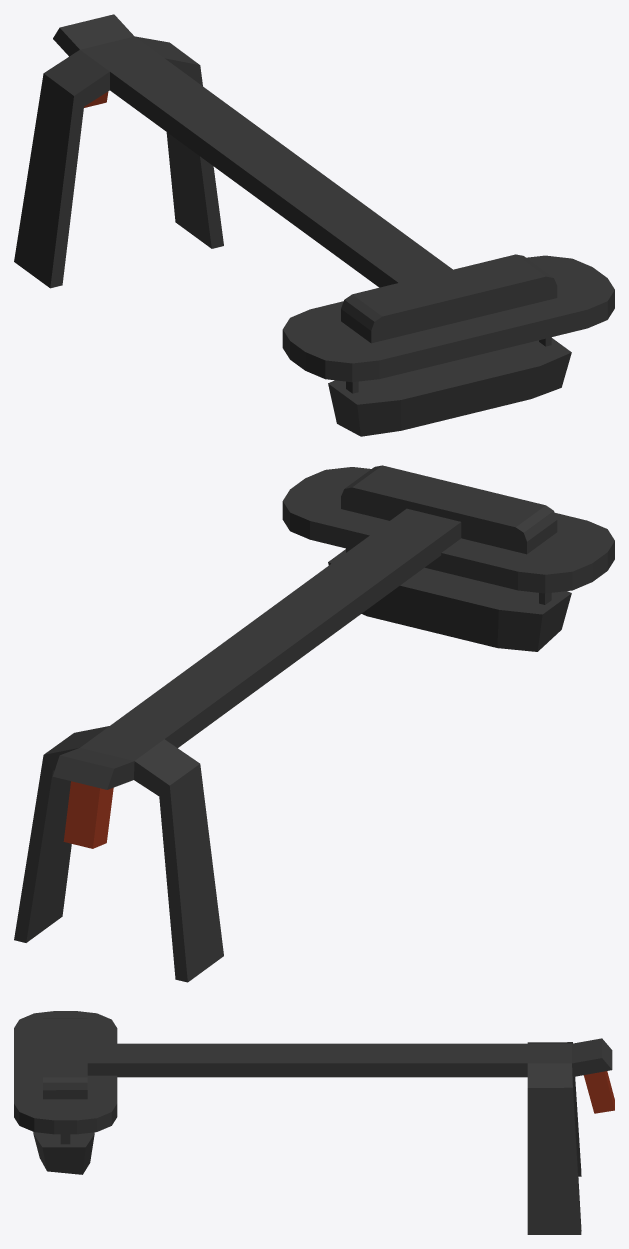
The model's file is pec-machine-ac-2.glb.
3 renders of one model, top to bottom at view 1: azimuth 30°, elevation 25°; view 2: azimuth 150°, elevation 25°; view 3: azimuth 270°, elevation 25°, orthographic. The views are drawn at different scales.
Visible parts, largest first — view 1: Pec_Machine_Ac_2; view 2: Pec_Machine_Ac_2; view 3: Pec_Machine_Ac_2.
Boxes of the visible parts, bbox=[...] form: Pec_Machine_Ac_2: bbox=[14, 14, 614, 436]; Pec_Machine_Ac_2: bbox=[14, 465, 614, 982]; Pec_Machine_Ac_2: bbox=[14, 1011, 614, 1234].
Bounding box in the file's own units: 35.54 × 23.59 × 82.5.
Materials: 1 (1 with a texture image).
